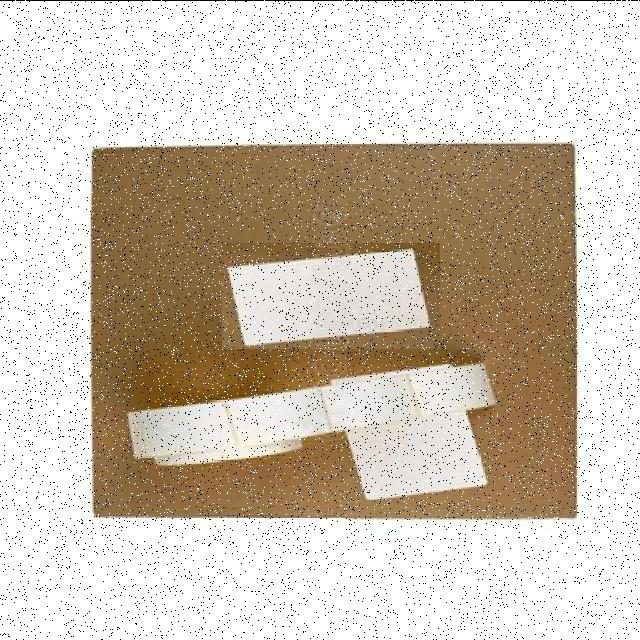normal: (222, 242, 440, 348)
